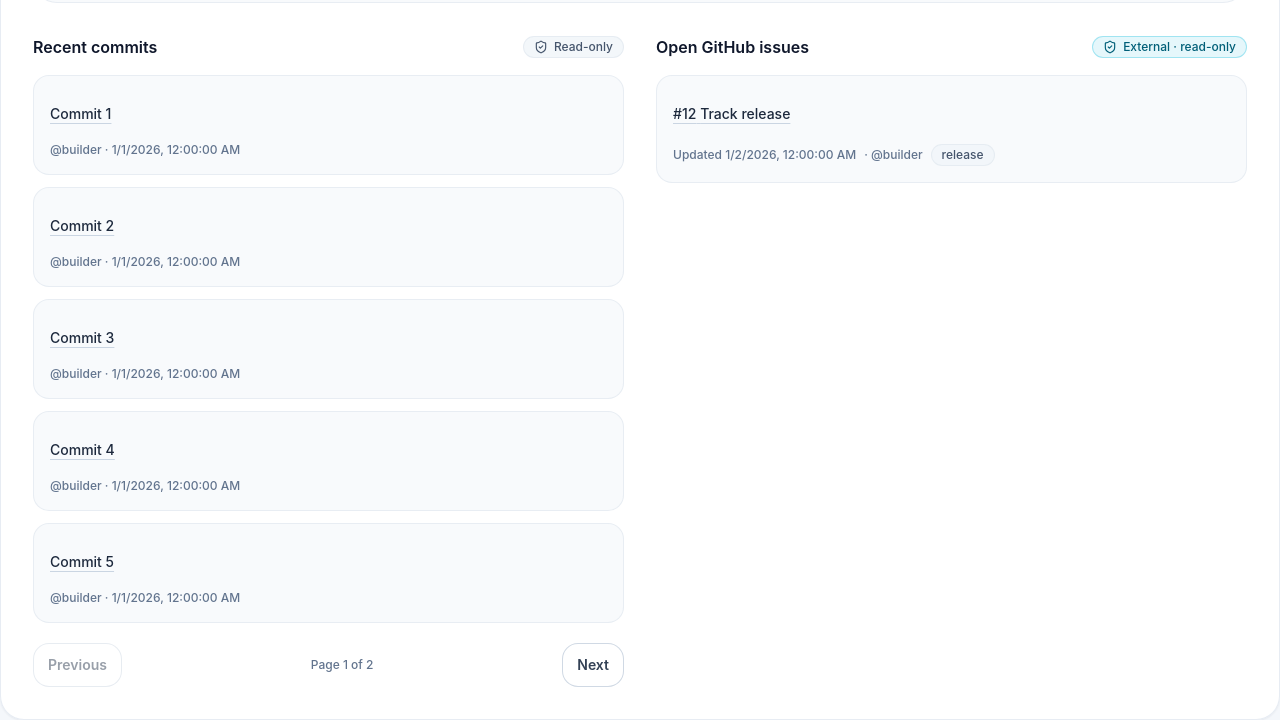
Test: ProjectGithubSection › paginates the ten most recent commits five at a time
The width and height of the screenshot is (1280, 720).
(page scrolled)
Expected: the text "Page 1 of 2" is shown, [311,657,374,673]
Expected: the button "Previous" is disabled, [33,643,122,687]
Click the button "Next". click: (593, 665)
box: [562,643,624,687]
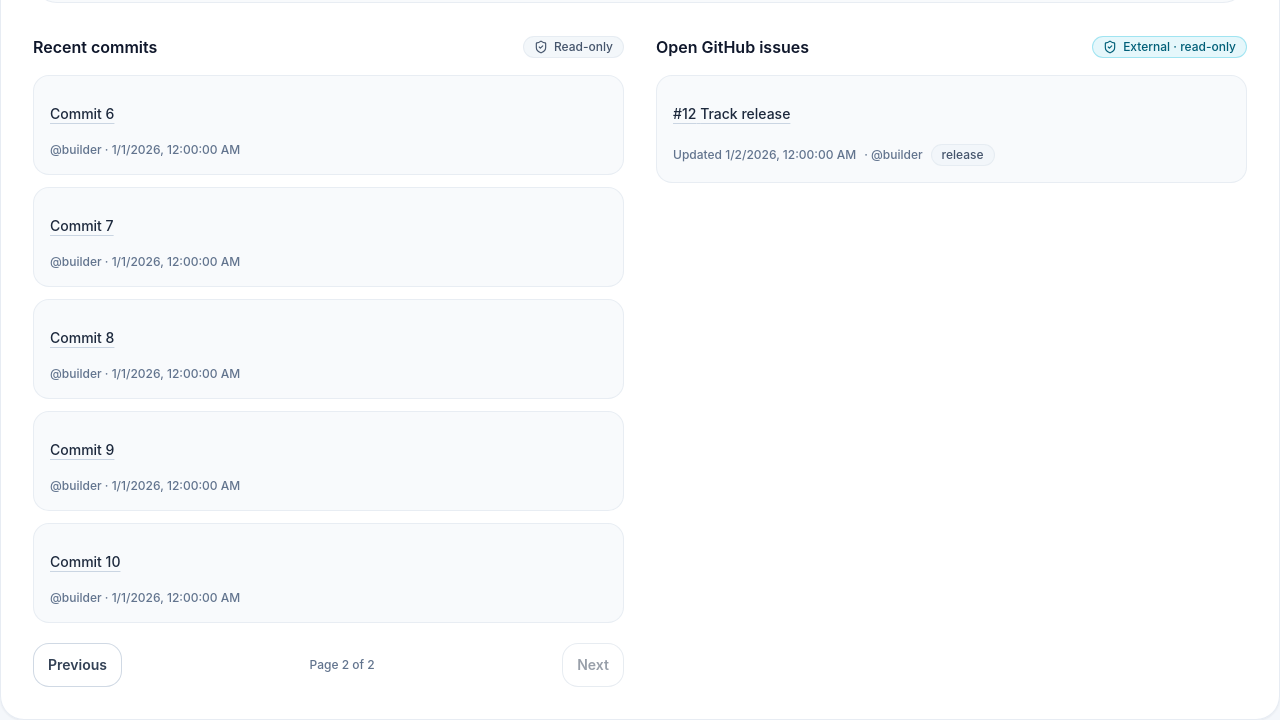
Now the text "Page 2 of 2" is shown, box [310,657,375,673]
Now the button "Previous" is enabled
Now the button "Next" is disabled, box [562,643,624,687]
Click the button "Previous". click: (78, 665)
box: [33,643,122,687]
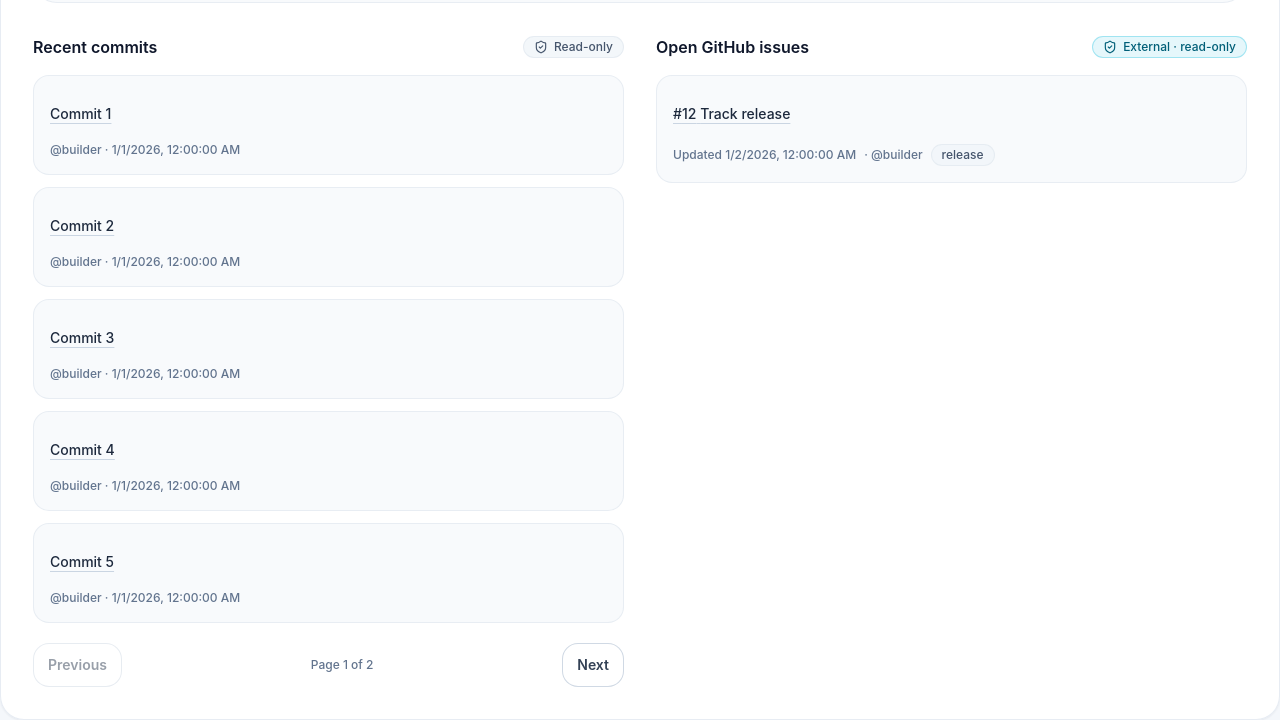
Now the text "Page 1 of 2" is shown, box [311,657,374,673]
Now the button "Previous" is disabled, box [33,643,122,687]
Now the button "Next" is enabled, box [562,643,624,687]
